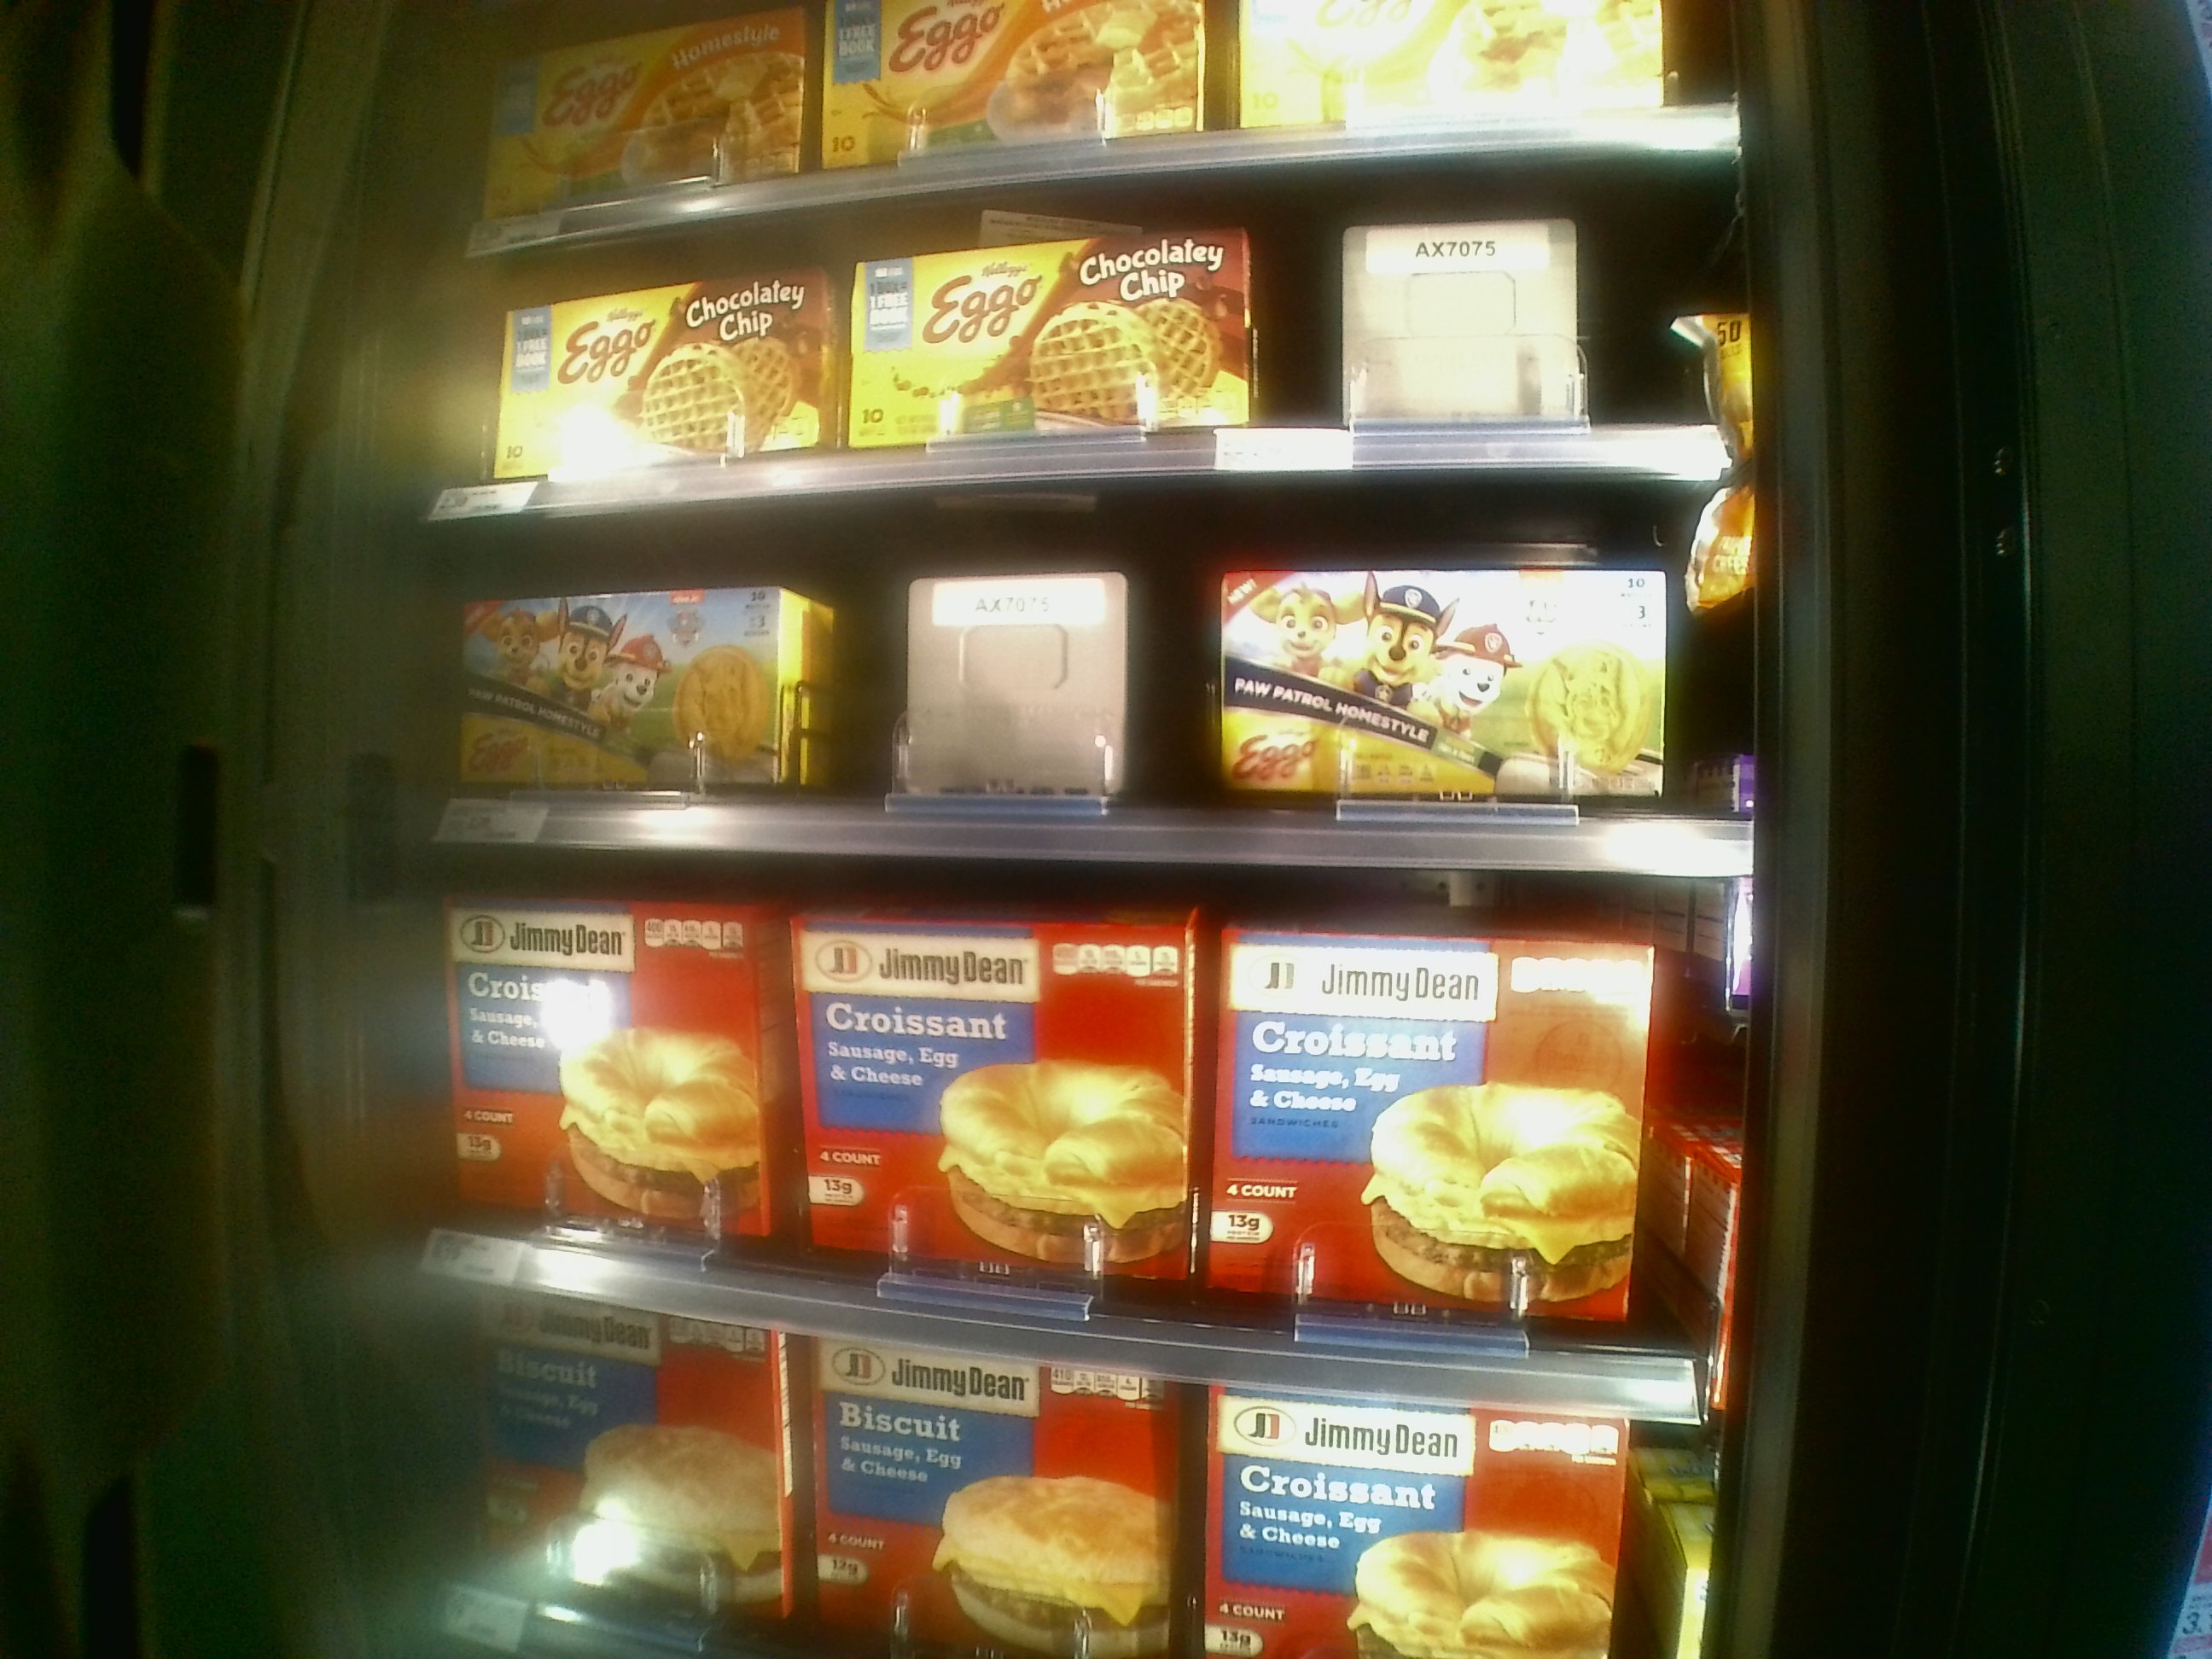shelf: (411, 472, 1754, 878)
